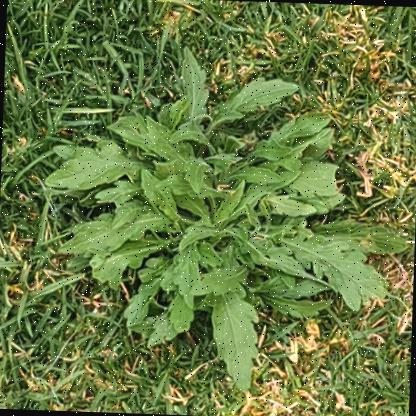Weeds: (39, 41, 415, 397)
